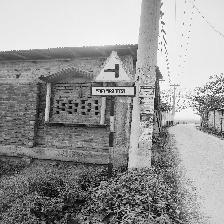Side-road-left: (92, 52, 136, 99)
